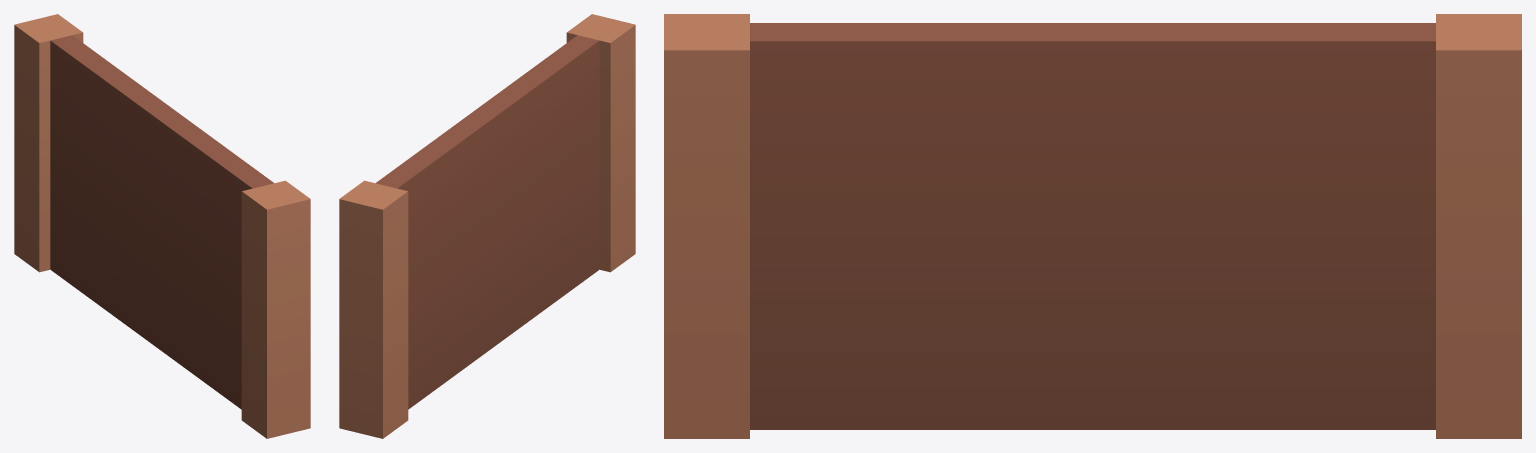
Rendered from kenney-fantasy-town-wall-wood-half.glb.
3 views of the same model, side by side, from view 1: azimuth 30°, elevation 25°; view 2: azimuth 150°, elevation 25°; view 3: azimuth 270°, elevation 25° (orthographic). The views are drawn at different scales.
Visible parts, largest first — view 1: wall-wood-half; view 2: wall-wood-half; view 3: wall-wood-half.
Boxes of the visible parts, box(x1,y1,x2,y2) form: wall-wood-half: box(14, 14, 310, 438); wall-wood-half: box(339, 14, 635, 438); wall-wood-half: box(664, 14, 1521, 438).
Bounding box in the file's own units: 0.1 × 0.5001 × 1.
1 material, 1 textured.
